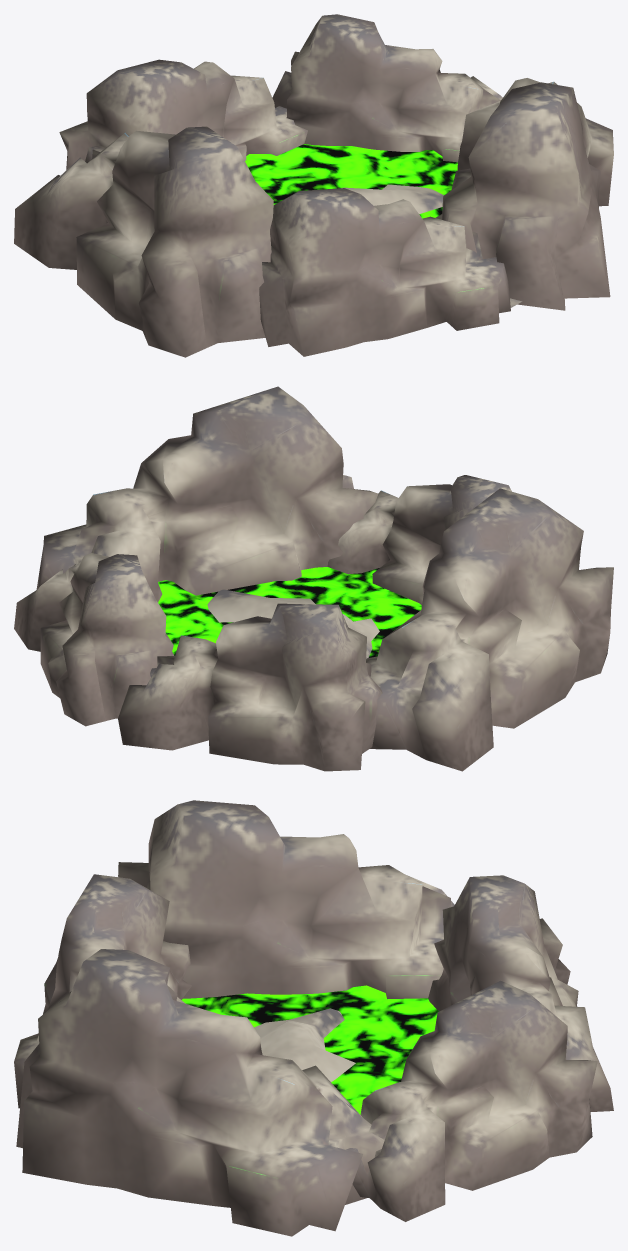
Rendered from Mountain-VolcanoPond.fbx.
3 renders of one model, top to bottom at view 1: azimuth 30°, elevation 25°; view 2: azimuth 150°, elevation 25°; view 3: azimuth 270°, elevation 25°, orthographic. The views are drawn at different scales.
Visible parts, largest first — view 1: Mountain-VolcanoPond; view 2: Mountain-VolcanoPond; view 3: Mountain-VolcanoPond.
Boxes of the visible parts, x1,y1,x2,y2 form: Mountain-VolcanoPond: [14, 14, 613, 357]; Mountain-VolcanoPond: [14, 386, 613, 771]; Mountain-VolcanoPond: [14, 800, 613, 1236].
Bounding box in the file's own units: 17.86 × 5.68 × 15.79.
1 material, 1 textured.
